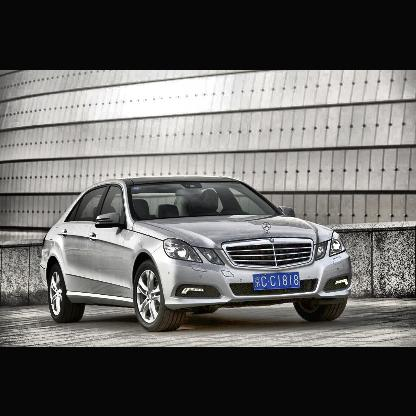Mercedes-Benz E-Class Sedan 2012: (41, 175, 354, 332)
